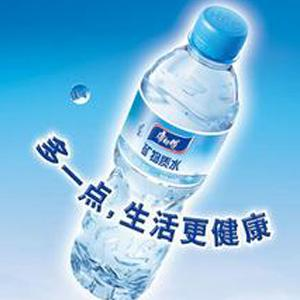amwater: (64, 4, 250, 299)
